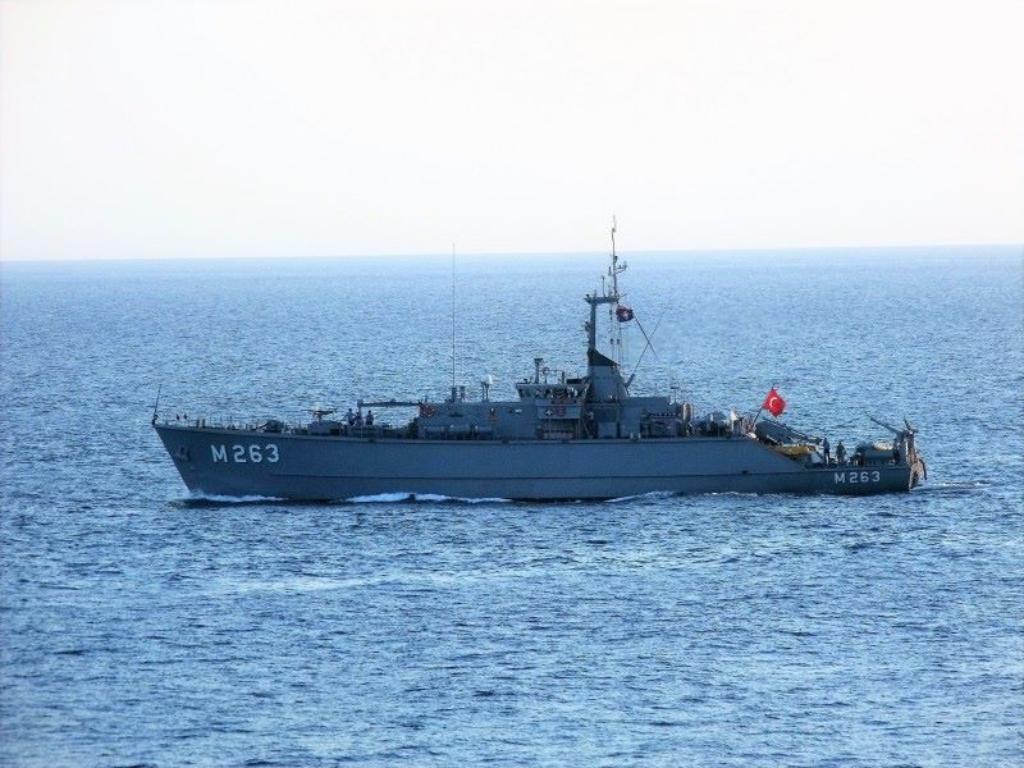Warship: (136, 200, 942, 504)
